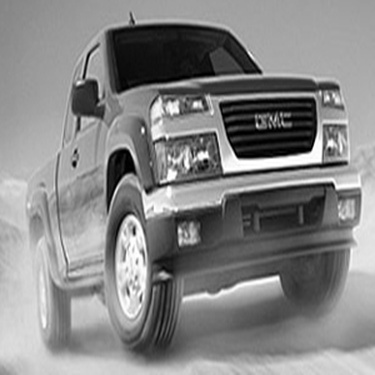car: (28, 8, 363, 356)
